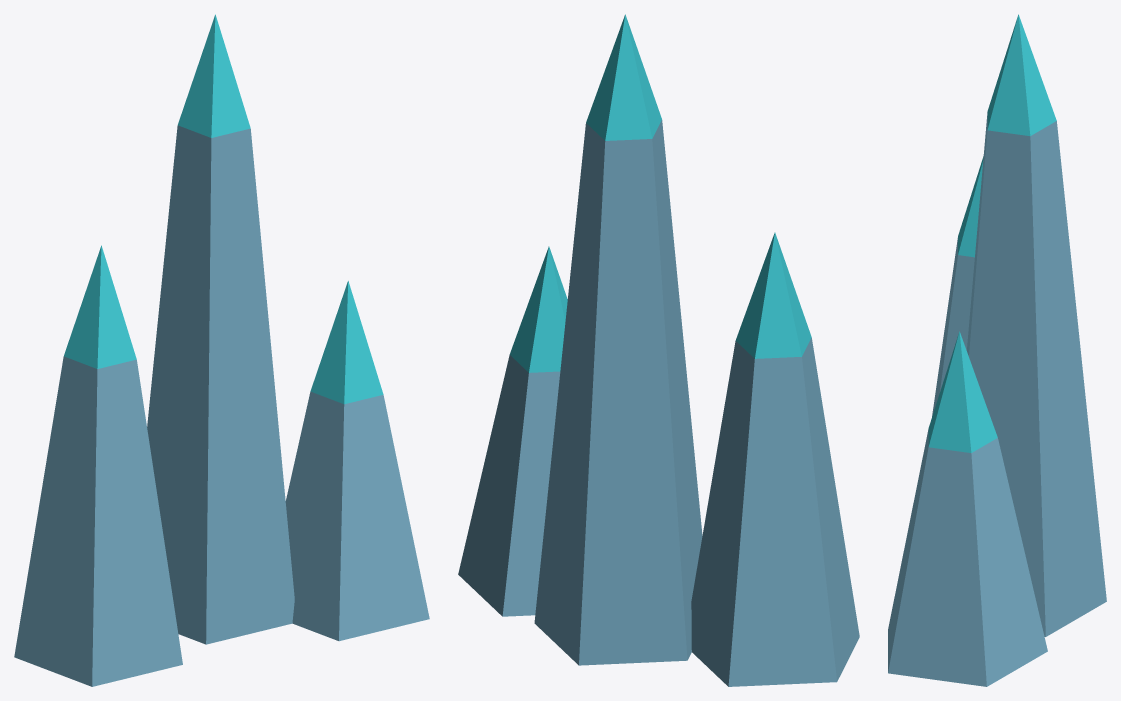
The model's file is ice-crystal.glb.
3 views of the same model, side by side, from view 1: azimuth 30°, elevation 25°; view 2: azimuth 150°, elevation 25°; view 3: azimuth 270°, elevation 25° (orthographic). The views are drawn at different scales.
Parts seen in each view (by area): view 1: crystal.001, crystal, crystal.002, crystal-tip.002, crystal-tip, crystal-tip.001; view 2: crystal.001, crystal, crystal.002, crystal-tip, crystal-tip.001, crystal-tip.002; view 3: crystal.001, crystal.002, crystal-tip.001, crystal-tip.002, crystal, crystal-tip.
Part boxes in pixels (x1,y1,x2,y2): crystal.001: (147,125,294,644); crystal: (14,356,182,686); crystal.002: (285,391,429,641); crystal-tip.002: (310,281,383,404); crystal-tip: (64,245,136,368); crystal-tip.001: (178,14,250,137); crystal.001: (534,120,702,665); crystal: (691,337,859,686); crystal.002: (458,355,560,616); crystal-tip: (735,232,811,358); crystal-tip.001: (586,14,661,140); crystal-tip.002: (509,246,567,372); crystal.001: (966,112,1106,636); crystal.002: (888,429,1047,686); crystal-tip.001: (987,14,1056,136); crystal-tip.002: (928,331,997,452); crystal: (932,238,974,416); crystal-tip: (958,156,983,257).
Bounding box in the file's own units: 1.47 × 2.2 × 0.7427.
